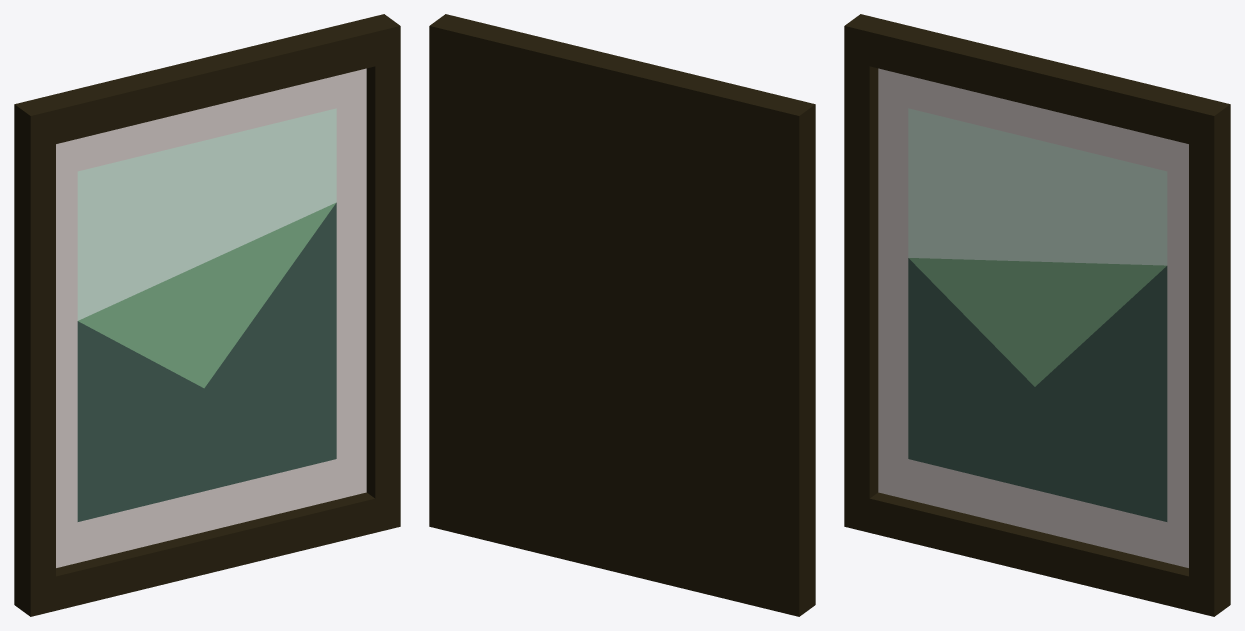
File: Prop_Paint_06.fbx
3 renders of one model, left to right at view 1: azimuth 30°, elevation 25°; view 2: azimuth 150°, elevation 25°; view 3: azimuth 330°, elevation 25°, orthographic.
Visible parts, largest first — view 1: Prop_Paint_06; view 2: Prop_Paint_06; view 3: Prop_Paint_06.
Part boxes in pixels (left/top/right/bottom): Prop_Paint_06: left=14, top=14, right=400, bottom=616; Prop_Paint_06: left=429, top=14, right=815, bottom=616; Prop_Paint_06: left=844, top=14, right=1230, bottom=616.
Size of the model in its own units: 35.58 by 46.05 by 2.7.
